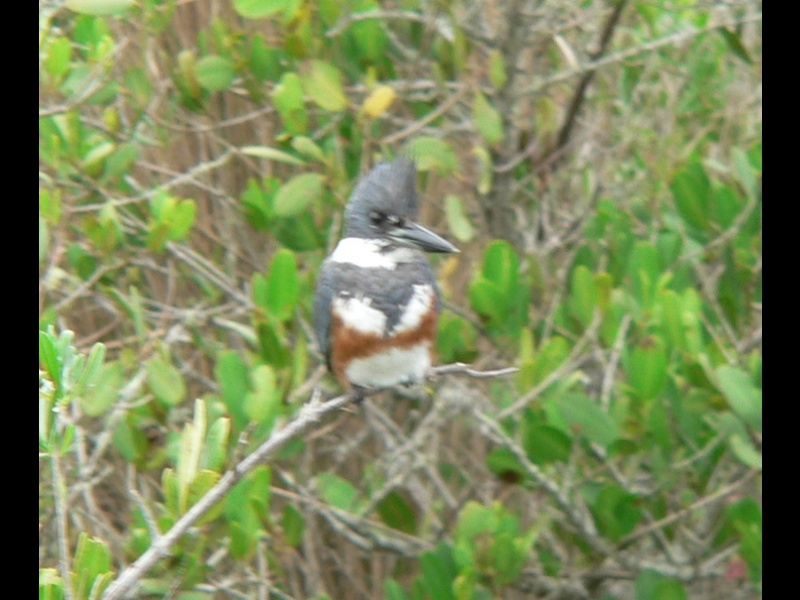kingfisher: (313, 153, 462, 411)
